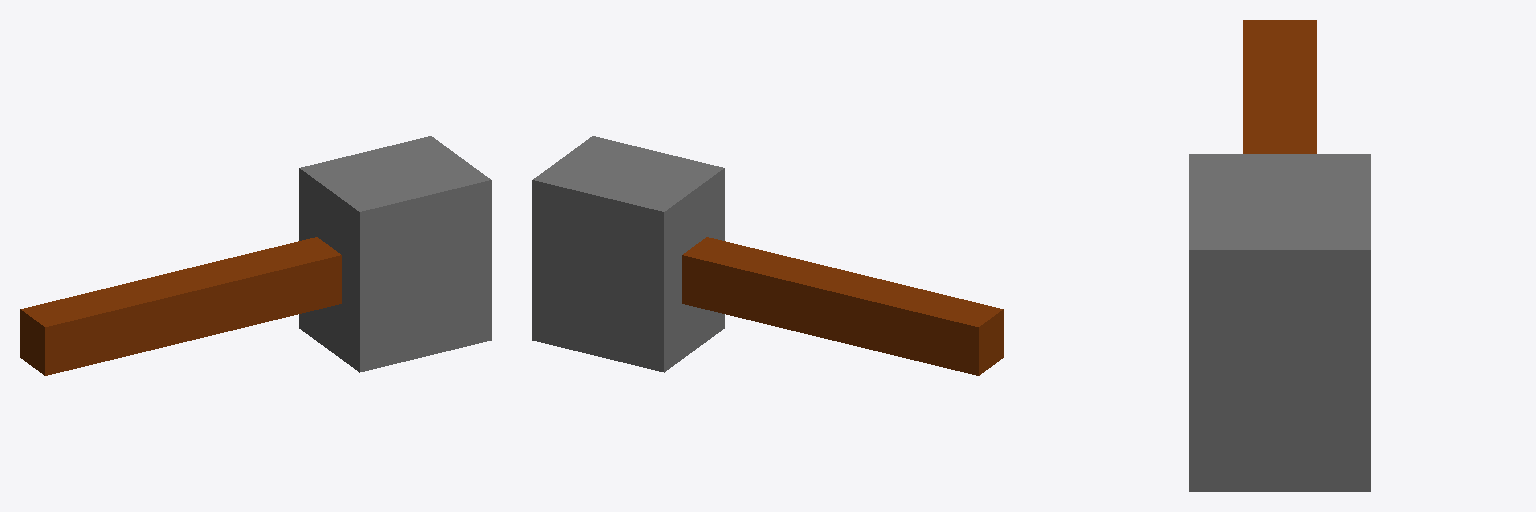
robot.urdf — handle_head:
<?xml version="1.0"?>
<robot name="handle_head">

  <link name="handle_head">
    <!-- Handle -->
    <visual>
              <origin xyz="0 0 0" rpy="0 0 0"/>
        <geometry>
          <box size="0.12900512938008035 0.018690558443060085 0.02026287448864586"/>
        </geometry>
        
      <material name="brown">
        <color rgba="0.55 0.27 0.07 1.0"/>
      </material>
    </visual>
    <collision>
              <origin xyz="0 0 0" rpy="0 0 0"/>
        <geometry>
          <box size="0.12900512938008035 0.018690558443060085 0.02026287448864586"/>
        </geometry>
        
    </collision>

    <!-- Head -->
    <visual>
              <origin xyz="0.09316383225335358 0 0" rpy="0 0 0"/>
        <geometry>
          <box size="0.05732253512662681 0.04542425122145104 0.06671214691123278"/>
        </geometry>
        
      <material name="gray">
        <color rgba="0.5 0.5 0.5 1.0"/>
      </material>
    </visual>
    <collision>
              <origin xyz="0.09316383225335358 0 0" rpy="0 0 0"/>
        <geometry>
          <box size="0.05732253512662681 0.04542425122145104 0.06671214691123278"/>
        </geometry>
        
    </collision>

    <inertial>
      <origin xyz="0.06416809333159354 0 0" rpy="0 0 0"/>
      <mass value="0.08106868969576422"/>
      <inertia ixx="3.1907612358234335e-05" iyy="0.00022269039838342775" izz="0.00021145394793738916" ixy="0" ixz="0" iyz="0"/>
    </inertial>
  </link>

</robot>

--- Facts derived from the render (not from the file) ---
3 views of the same robot in one strip: view 1: azimuth 30°, elevation 25°; view 2: azimuth 150°, elevation 25°; view 3: azimuth 270°, elevation 25° (orthographic).
Robot: handle_head — 1 links, 0 joints (none); root link handle_head; default pose: every joint at zero.
Visible links, largest first — view 1: handle_head; view 2: handle_head; view 3: handle_head.
Link boxes in pixels (left/top/right/bottom): handle_head: left=20, top=136, right=491, bottom=375; handle_head: left=532, top=136, right=1003, bottom=375; handle_head: left=1189, top=20, right=1370, bottom=491.
Size in the robot's own frame: 0.1863 by 0.0454 by 0.0667 metres.
Geometry: primitives only (box / cylinder / sphere), no mesh files.
